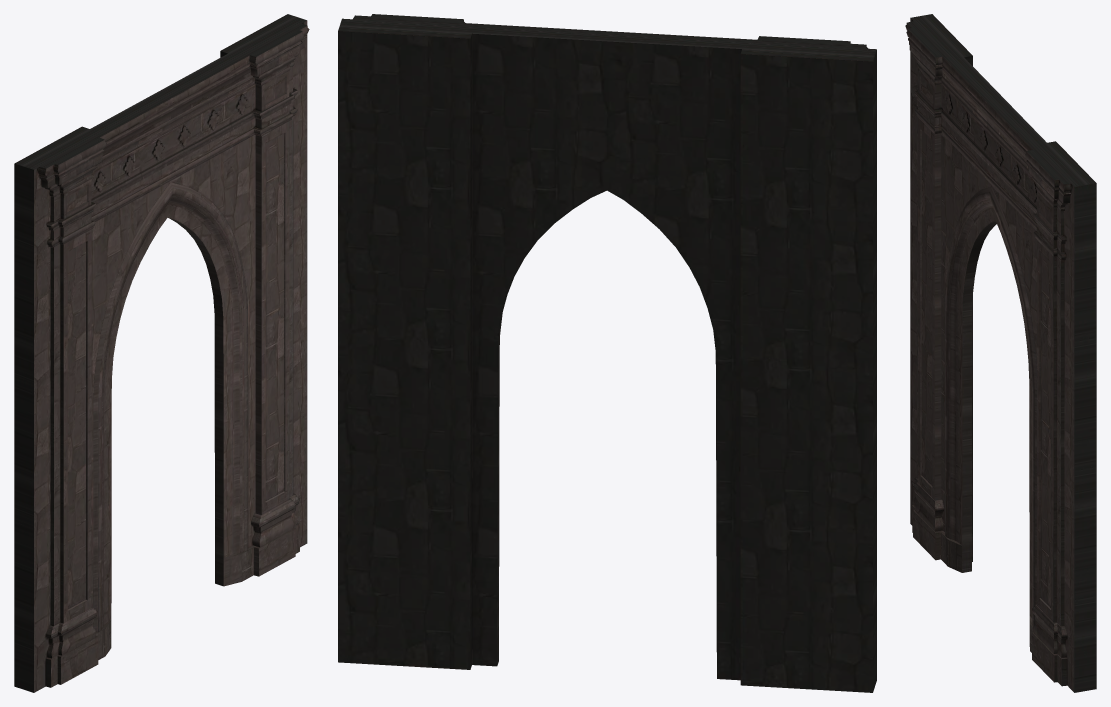
The model's file is portalArch.glb.
The picture shows the model from 3 angles, left to right: view 1: azimuth 30°, elevation 25°; view 2: azimuth 150°, elevation 25°; view 3: azimuth 270°, elevation 25°; orthographic projection. The views are drawn at different scales.
Visible parts, largest first — view 1: Arch_low; view 2: Arch_low; view 3: Arch_low.
Boxes of the visible parts, left/top/right/bottom form: Arch_low: left=14, top=14, right=309, bottom=692; Arch_low: left=338, top=14, right=876, bottom=692; Arch_low: left=905, top=14, right=1096, bottom=692.
Bounding box in the file's own units: 1.47 × 2 × 0.6851.
Materials: 1 (1 with a texture image).
